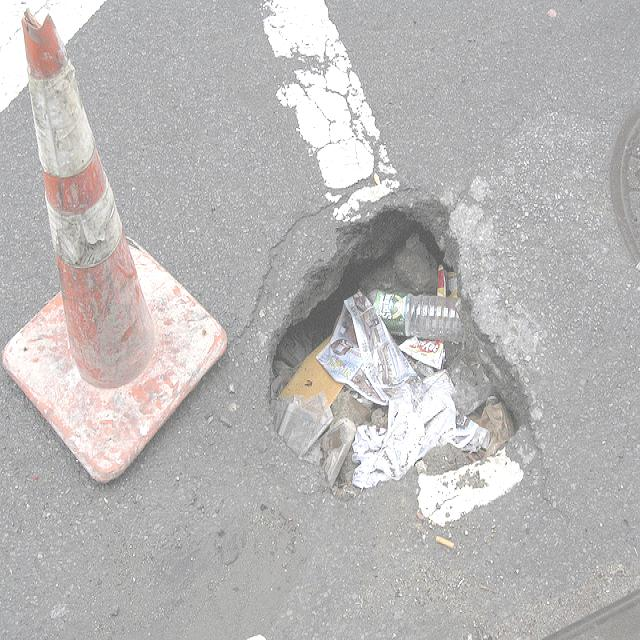Pothole: (245, 175, 572, 564)
